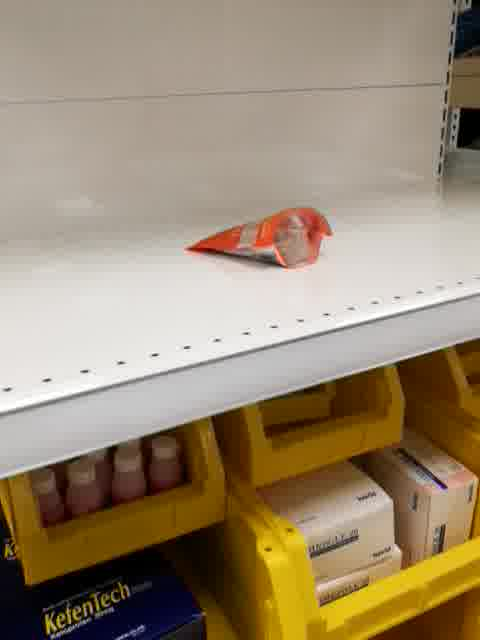whitechia: (183, 201, 336, 271)
